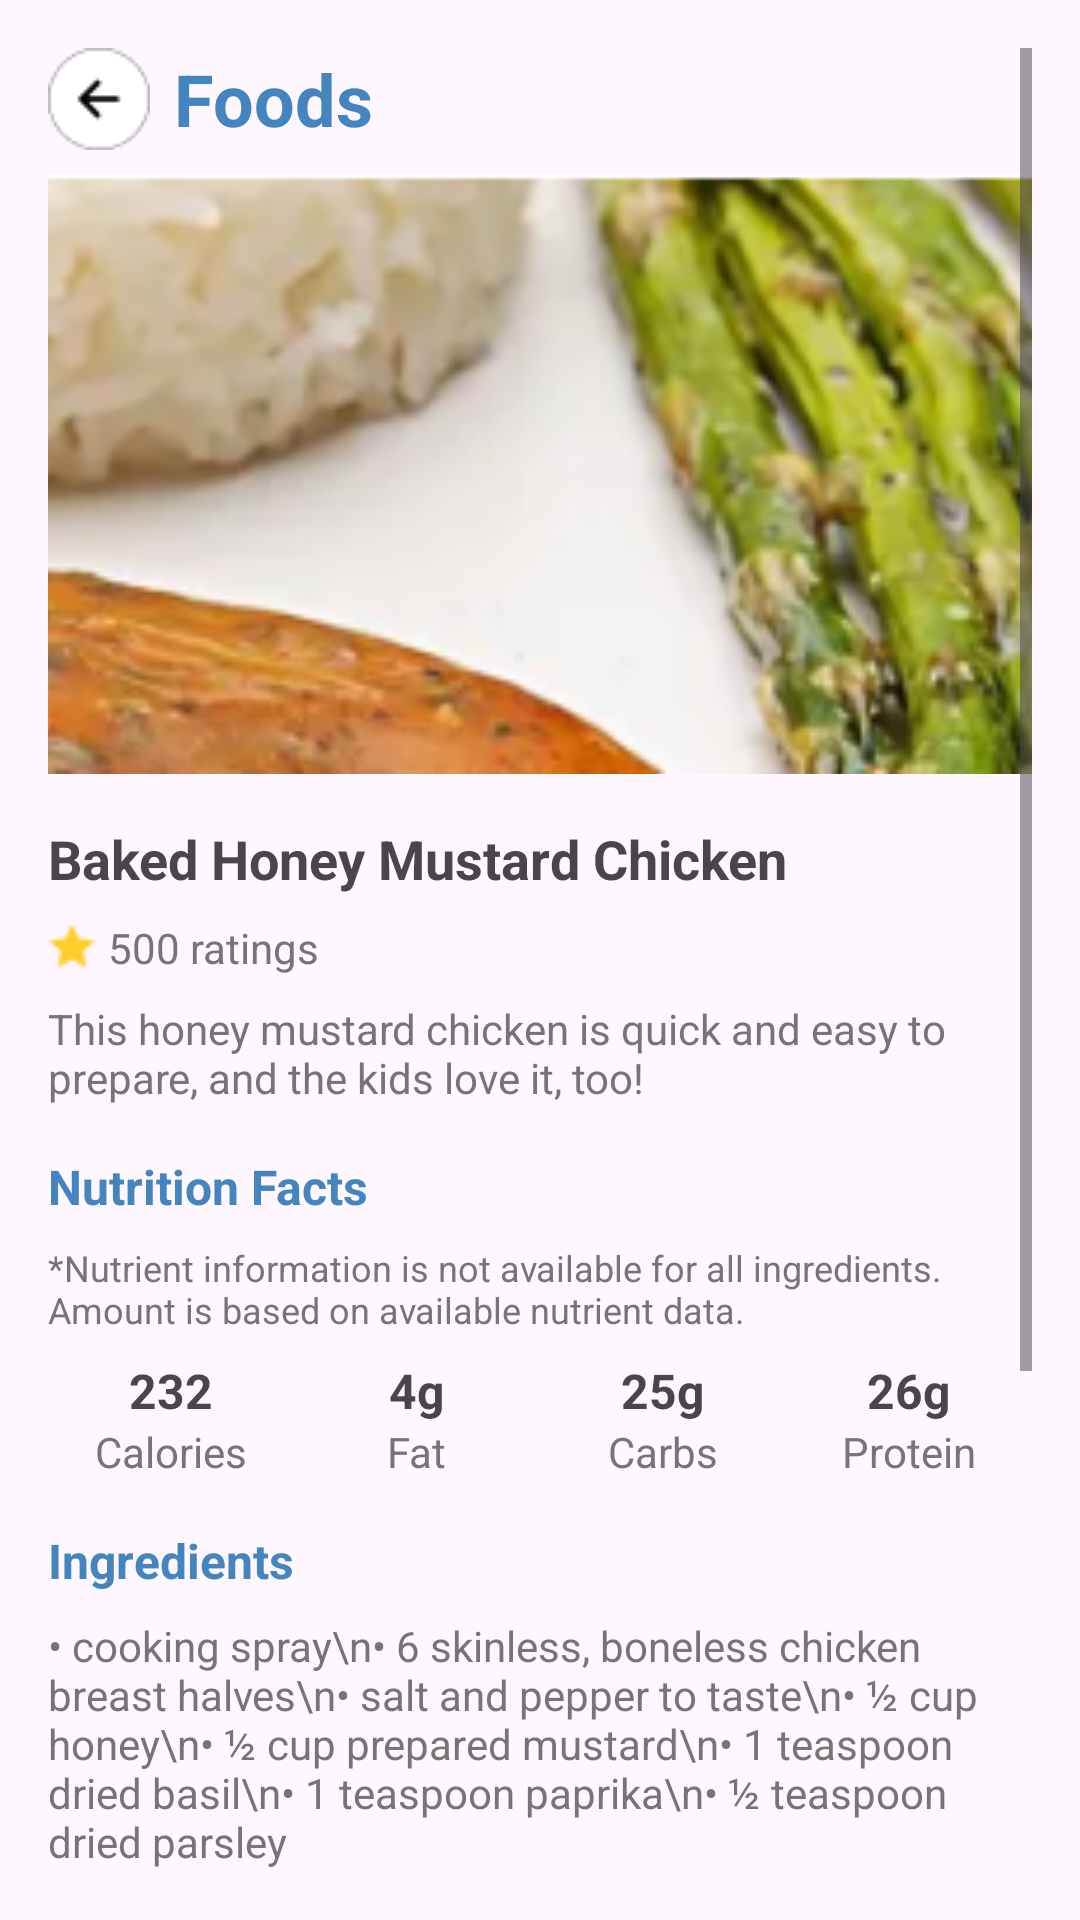

Screen size 1080 × 1920. Icon name, then its box in pixels as bbox(x1, y1, x2, y2):
Back Icon: bbox(48, 48, 150, 150)
Star Icon: bbox(48, 923, 96, 969)
